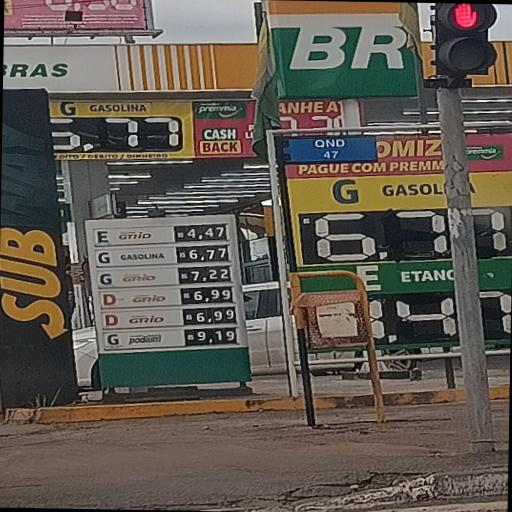ETANOL: (94, 226, 167, 246)
GASOLINA AD: (96, 267, 160, 289)
GASOLINA C: (96, 249, 172, 265)
S10: (103, 310, 171, 328)
S500: (100, 289, 172, 309)
placa: (87, 216, 243, 331)
preco: (187, 245, 232, 263), (185, 222, 229, 240), (194, 307, 238, 325), (189, 264, 232, 281), (192, 286, 235, 303)
